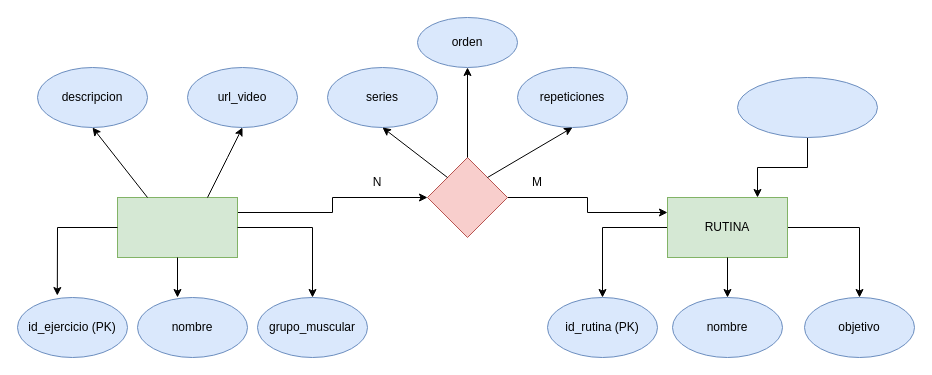
Image size: 932x375. Some labels were removed from this diagram. Each missing label, with the box of its shape:
CONTIENE: (426, 156, 508, 238)
EJERCICIO: (116, 196, 238, 258)
fecha_creacion: (736, 76, 878, 138)
